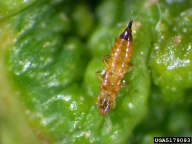Thrips: (97, 16, 138, 120)
